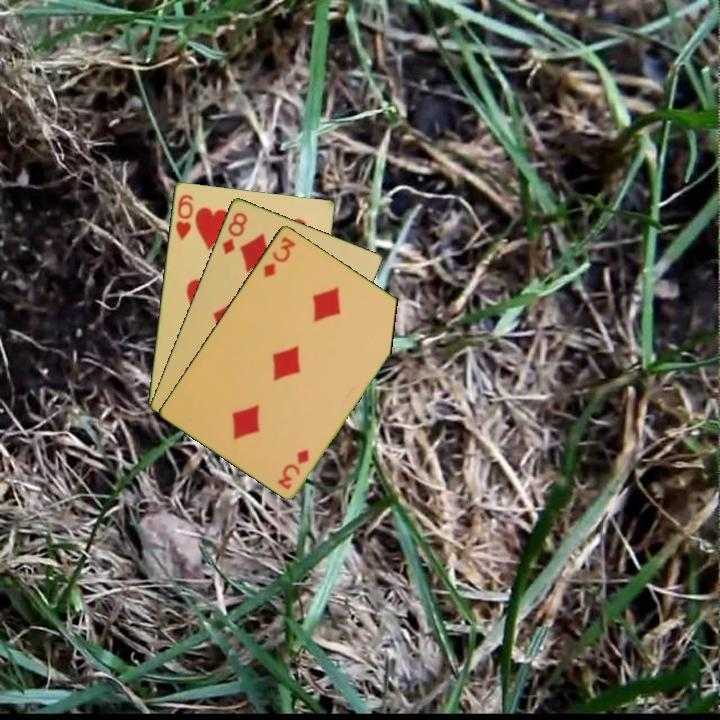3d: (260, 233, 298, 280), (274, 445, 312, 492)
6h: (172, 191, 196, 243)
8d: (218, 208, 250, 257)
